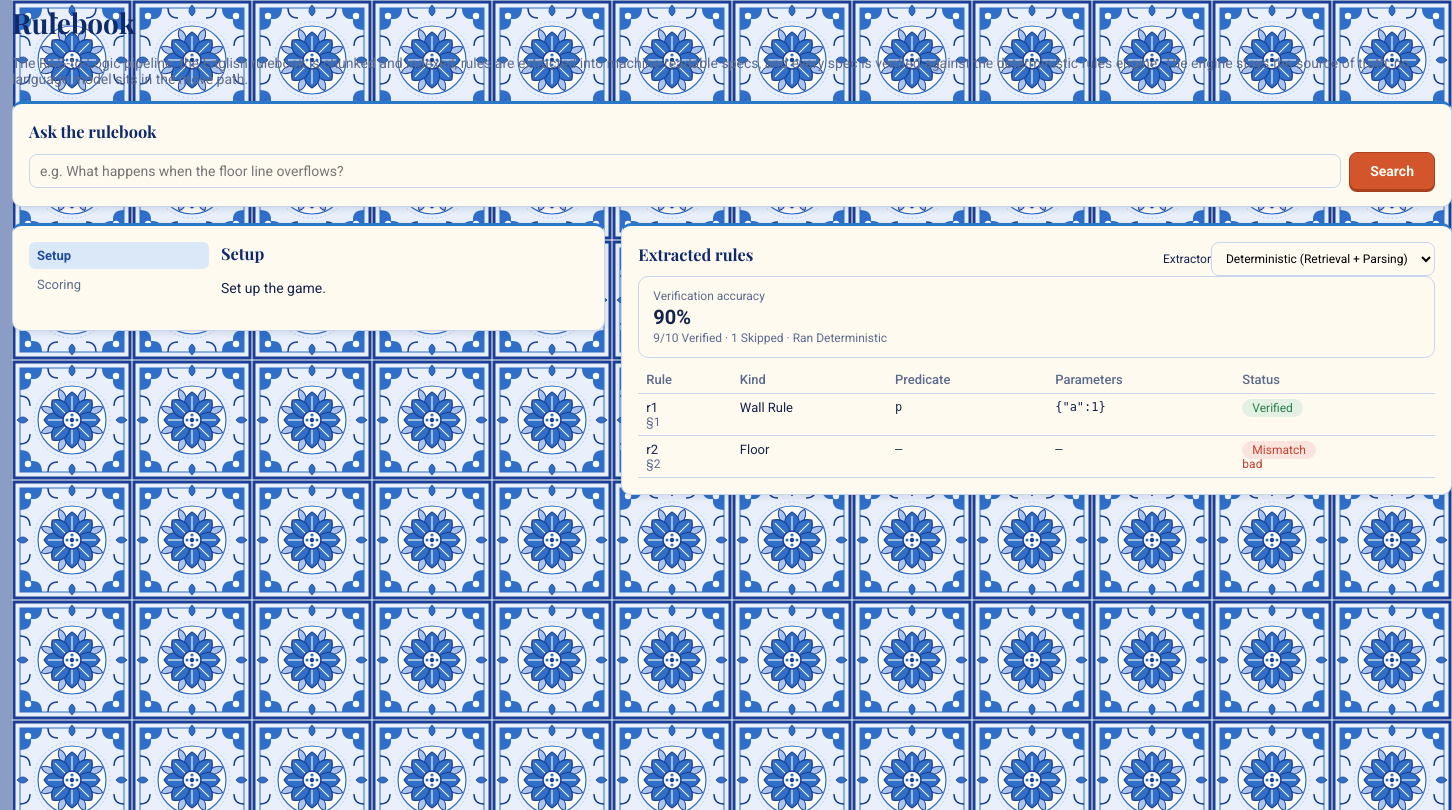
Test: Rulebook › switches the extractor and reports errors
Expected: the text "Wall Rule" is shown, [732,394,887,436]
Select "LLM (Claude; Needs API Key)" in the dropdown. click: [1323, 259]
box: [1211,242,1435,276]
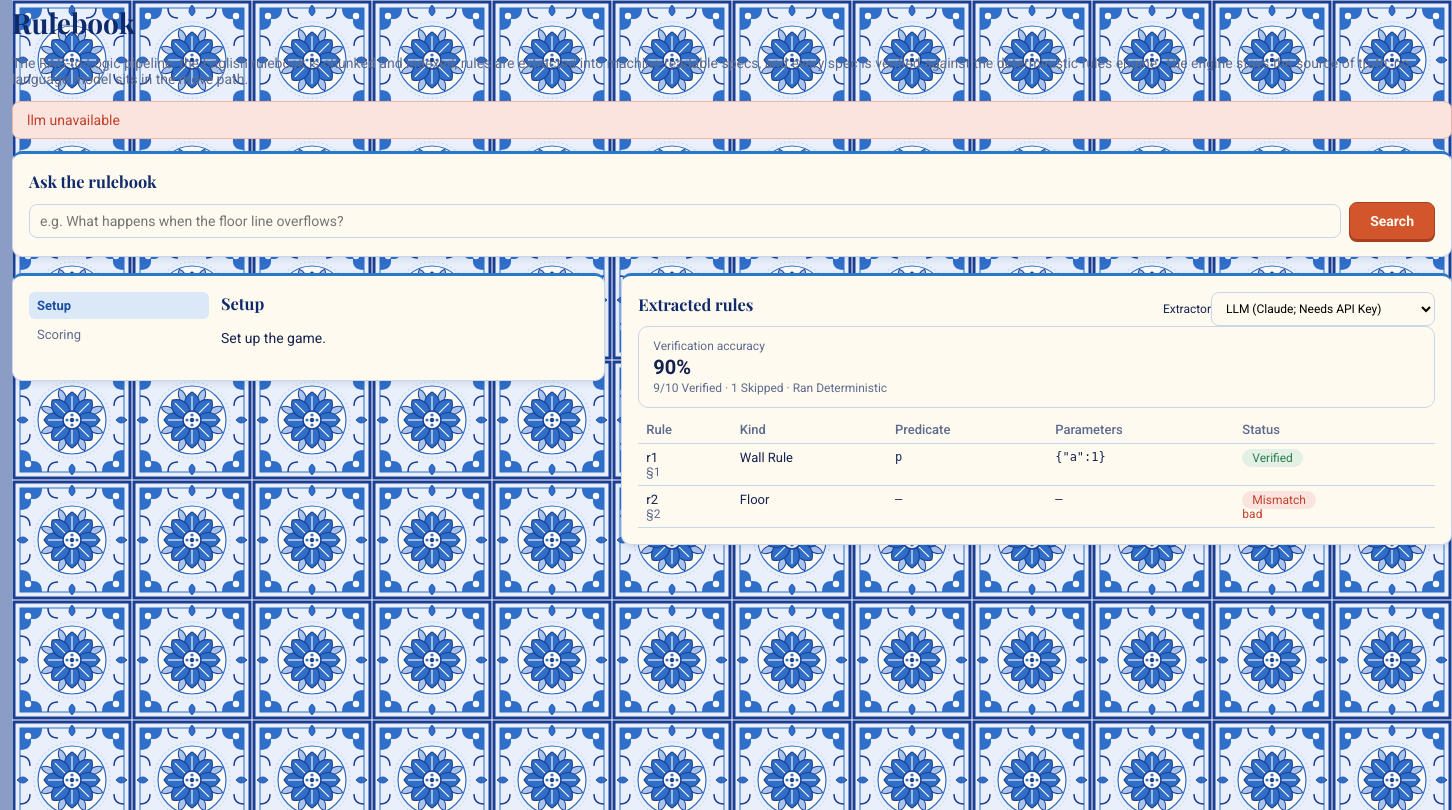
Now the text "llm unavailable" is shown, box [12,101,1451,139]
